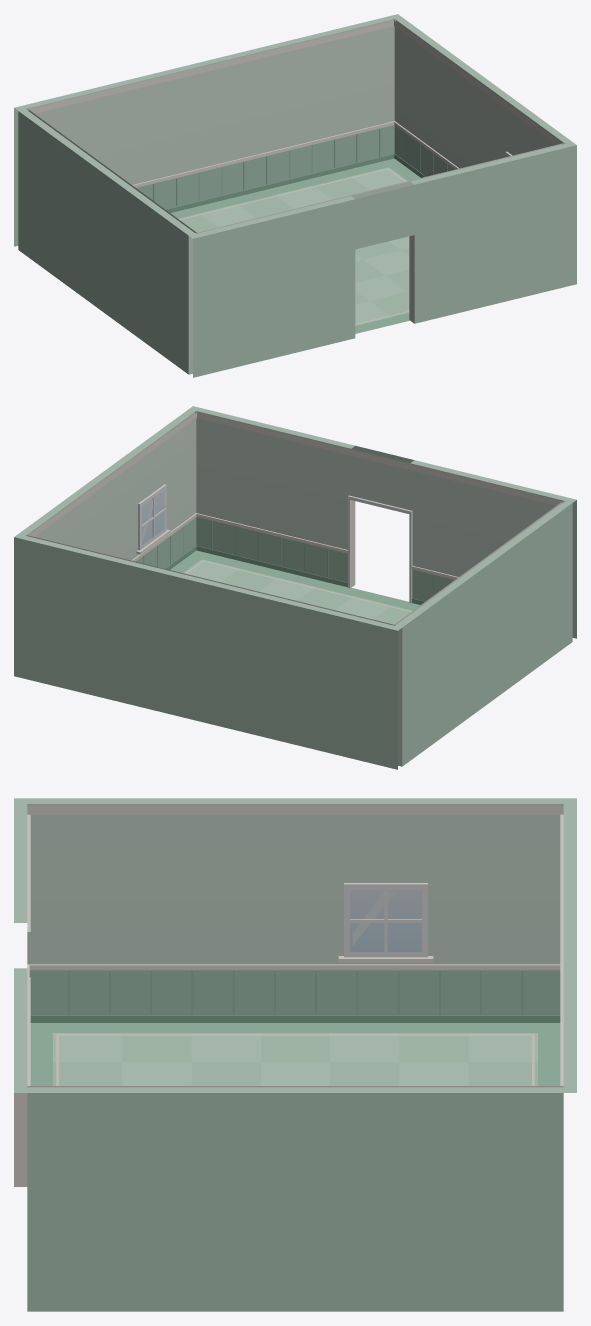
The model's file is pi_interior_shell.glb.
3 views of the same model, one above another, from view 1: azimuth 30°, elevation 25°; view 2: azimuth 150°, elevation 25°; view 3: azimuth 270°, elevation 25° (orthographic). The views are drawn at different scales.
Parts seen in each view (by area): view 1: dinding_selatan, dinding_utara, dinding_barat, dinding_timur, lantai; view 2: dinding_utara, dinding_selatan, dinding_barat, dinding_timur, lantai; view 3: dinding_timur, dinding_barat, lantai, dinding_selatan, dinding_utara.
Part boxes in pixels (left/top/right/bottom): dinding_selatan: left=188, top=142, right=576, bottom=377; dinding_utara: left=14, top=14, right=401, bottom=246; dinding_barat: left=18, top=109, right=197, bottom=374; dinding_timur: left=393, top=17, right=571, bottom=177; lantai: left=170, top=158, right=420, bottom=333; dinding_utara: left=14, top=534, right=402, bottom=769; dinding_selatan: left=189, top=406, right=576, bottom=638; dinding_barat: left=393, top=501, right=572, bottom=766; dinding_timur: left=19, top=409, right=197, bottom=569; lantai: left=170, top=550, right=420, bottom=624; dinding_timur: left=27, top=1086, right=563, bottom=1311; dinding_barat: left=27, top=798, right=563, bottom=1022; lantai: left=30, top=1023, right=560, bottom=1085; dinding_selatan: left=14, top=798, right=30, bottom=1186; dinding_utara: left=560, top=798, right=576, bottom=1092.
Bounding box in the file's own units: 10.4 × 3.6 × 8.4.
